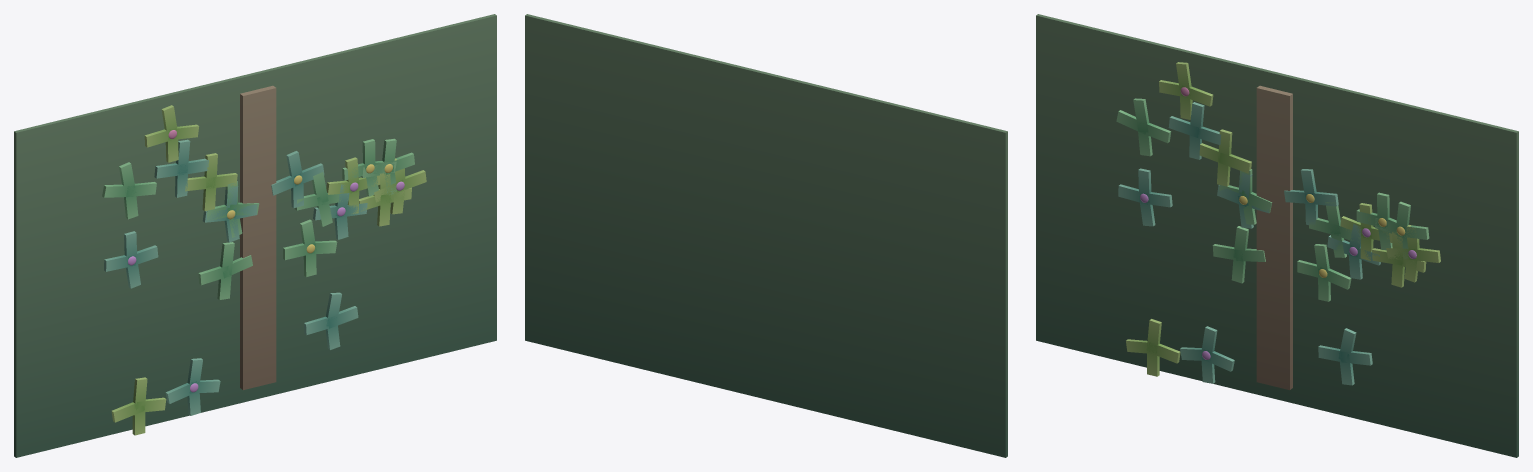
File: epiphytic-canopy.glb
The picture shows the model from 3 angles, left to right: view 1: azimuth 30°, elevation 25°; view 2: azimuth 150°, elevation 25°; view 3: azimuth 330°, elevation 25°; orthographic projection.
Visible parts, largest first — view 1: backdrop, trunk; view 2: backdrop; view 3: backdrop, trunk.
Part boxes in pixels (x1,y1,x2,y2): backdrop: [14, 14, 496, 457]; trunk: [240, 85, 276, 390]; backdrop: [525, 14, 1007, 457]; backdrop: [1036, 14, 1518, 457]; trunk: [1256, 85, 1292, 390].
Bounding box in the file's own units: 6.5 × 4.24 × 0.153.
